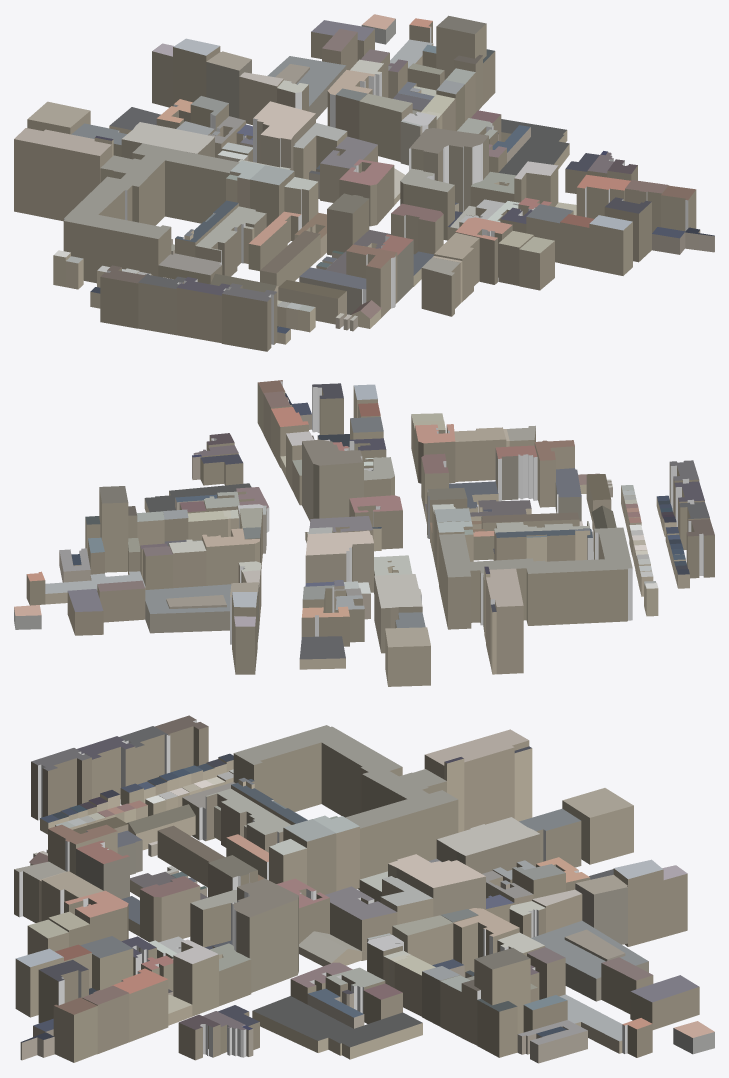
3 renders of one model, top to bottom at view 1: azimuth 30°, elevation 25°; view 2: azimuth 150°, elevation 25°; view 3: azimuth 270°, elevation 25°, orthographic. The views are drawn at different scales.
Parts seen in each view (by area): view 1: tuile; view 2: tuile; view 3: tuile.
Boxes of the visible parts, left/top/right/bottom form: tuile: left=14, top=14, right=714, bottom=351; tuile: left=14, top=380, right=714, bottom=686; tuile: left=14, top=715, right=714, bottom=1063.
Size of the model in its own units: 260 by 38.11 by 263.
